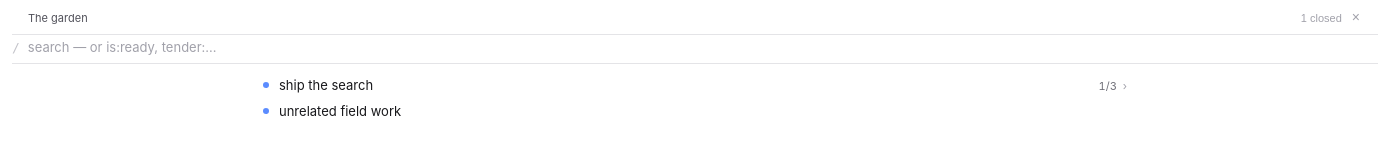
Test: GardenPanel search › offers the values of an operator being typed, and puts one into the query
In the dropdown: (699, 47) [28, 37, 1370, 57], type "is:"
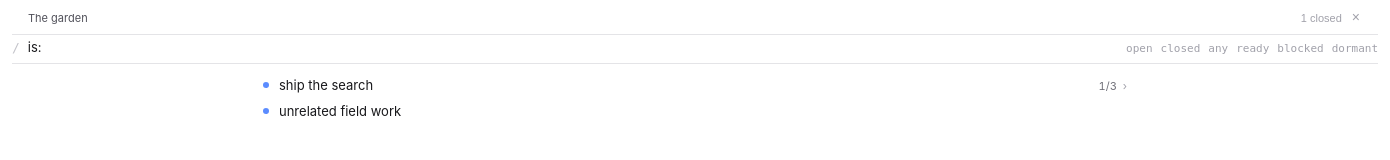
Click the button "ready": (1253, 48) [1236, 42, 1269, 55]
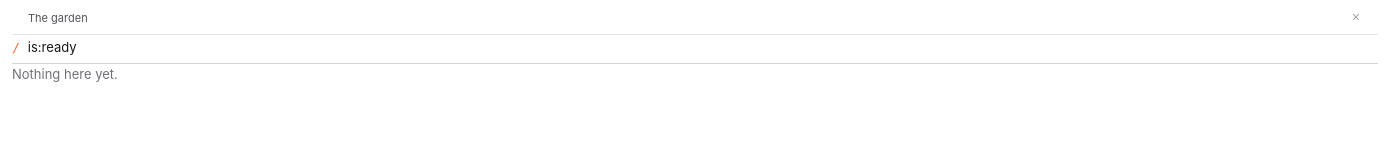
Expected: the dropdown holds "is:ready ", [28, 37, 1370, 57]
